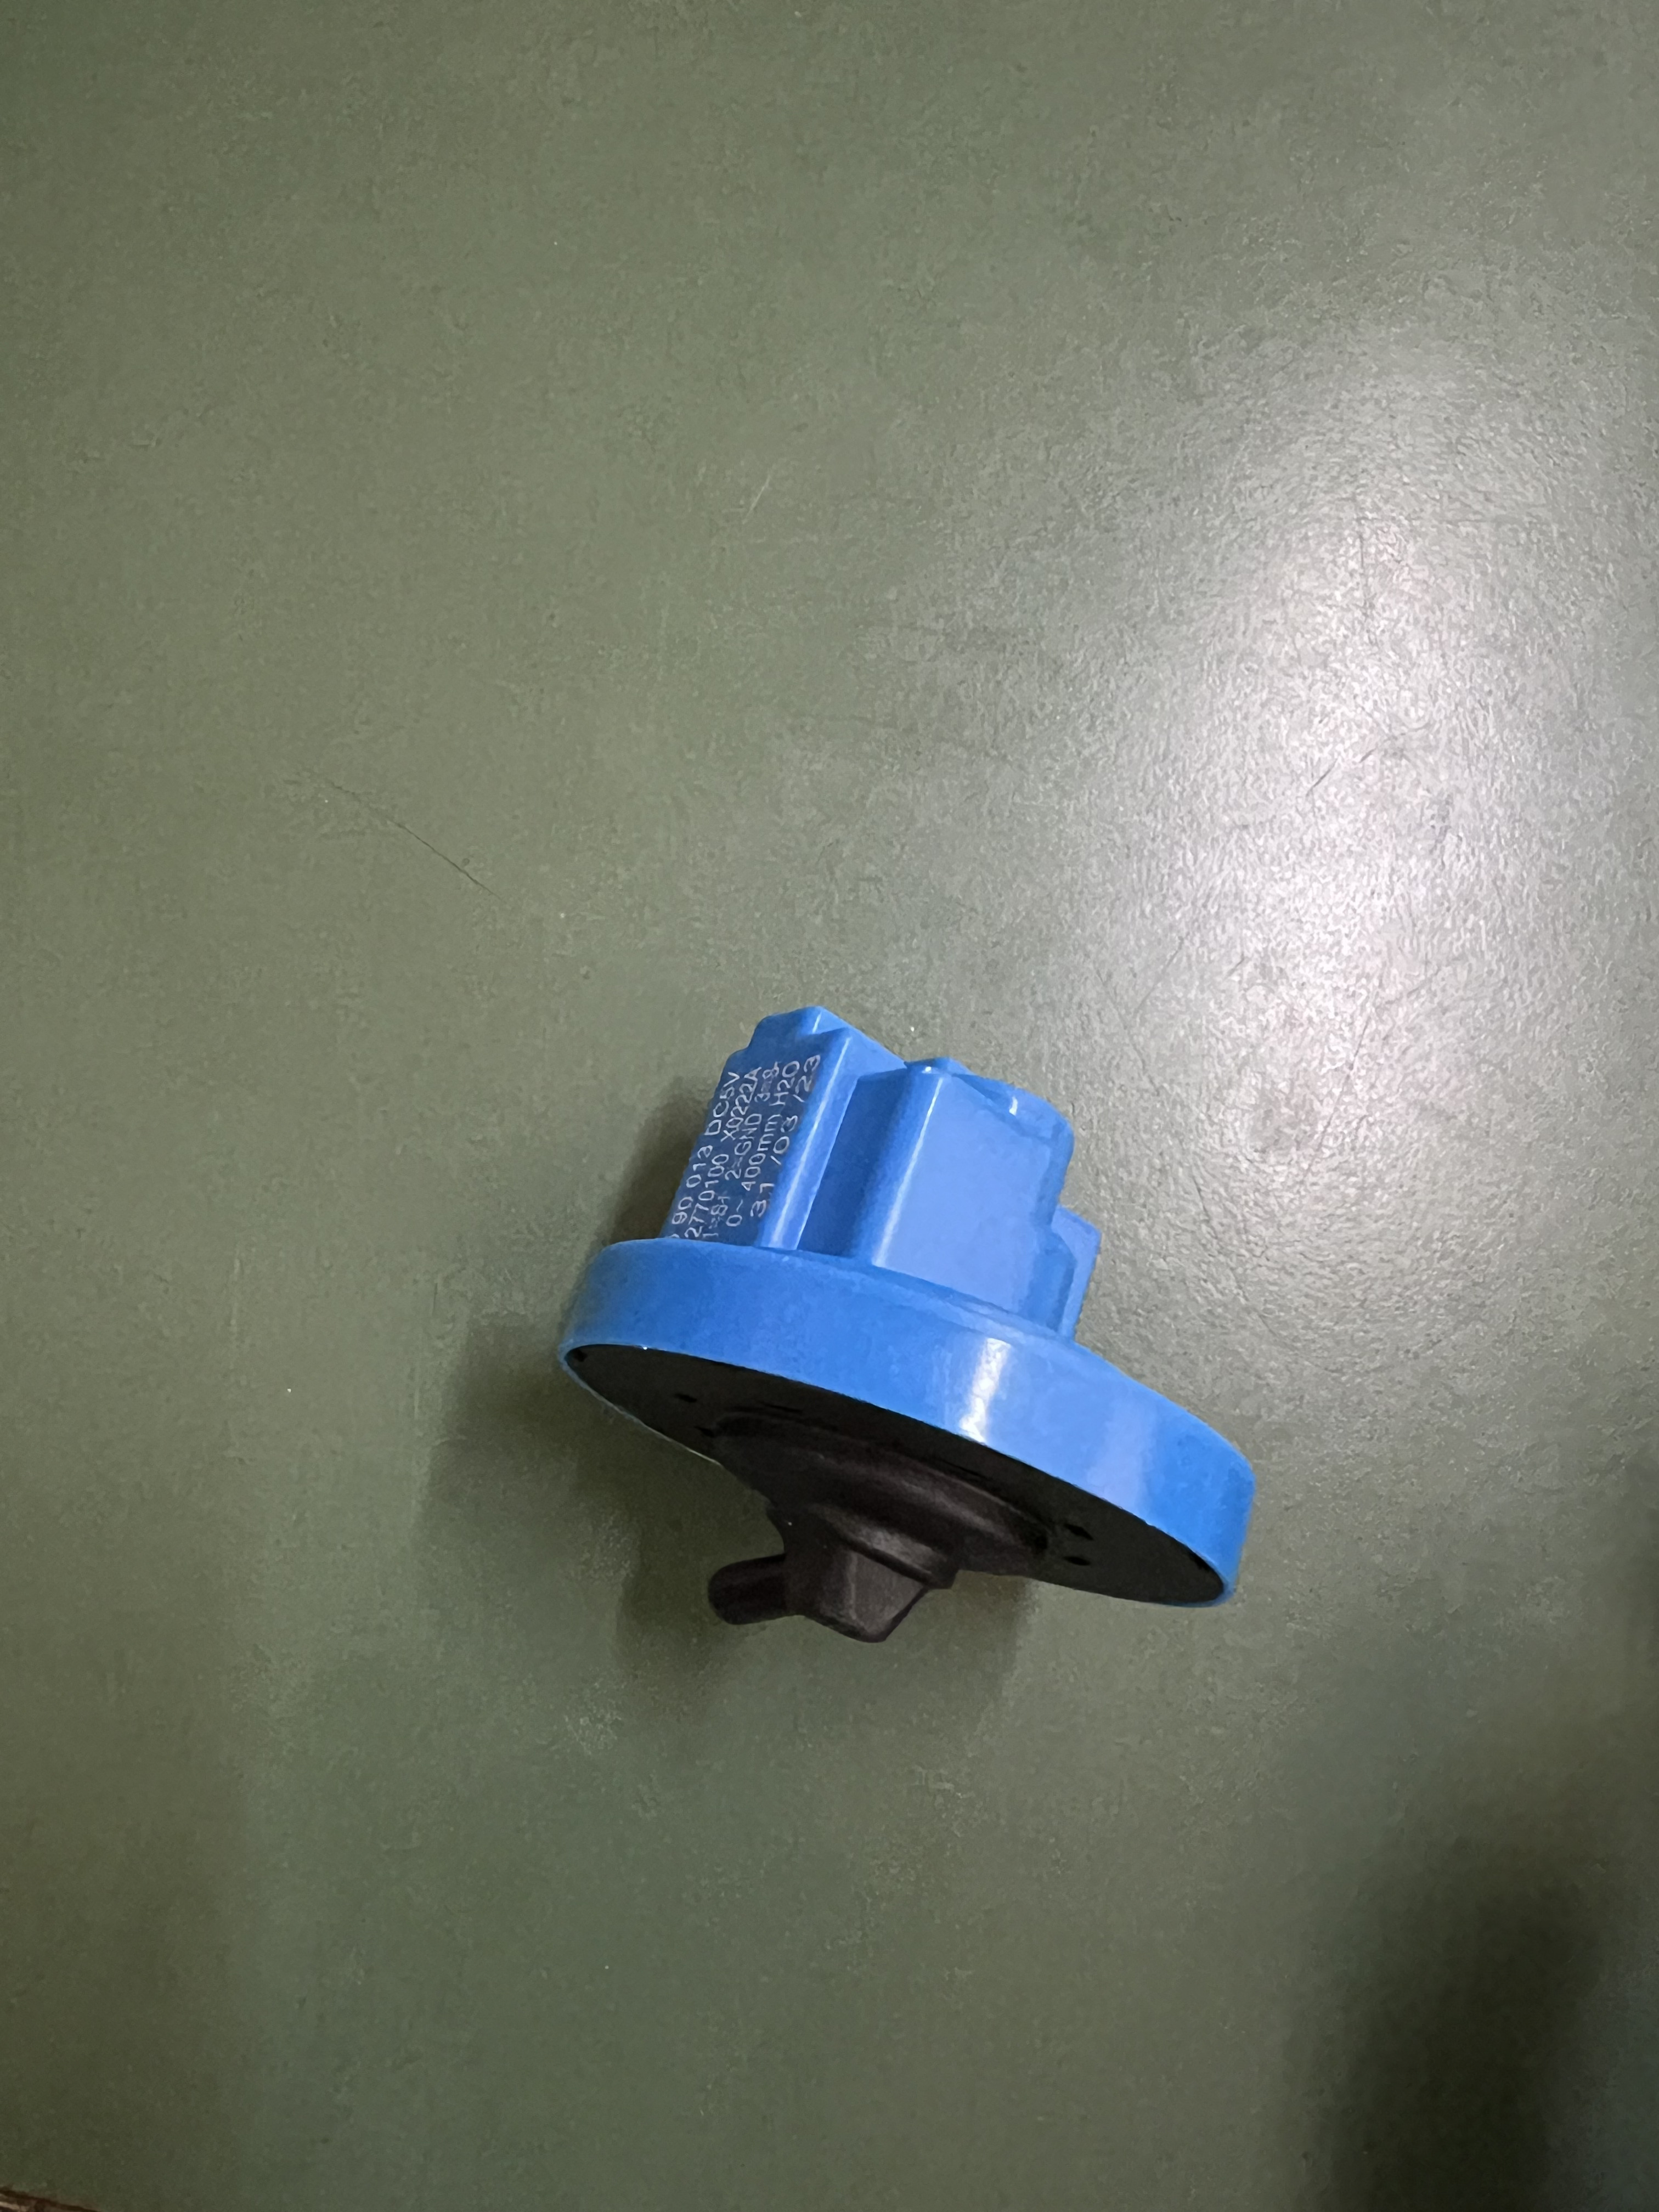voltas_beko_pressure_switch: (568, 995, 1288, 1691)
